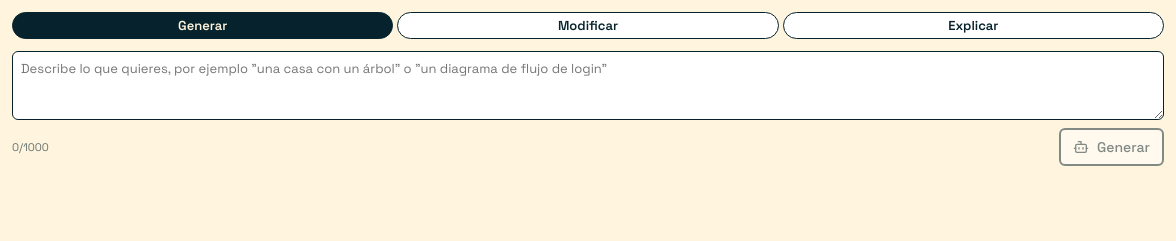
it: AssistantPanel › explain shows the text as plain text (no HTML is interpreted)
Click the tab "Explicar": (973,26) [783,12,1164,39]
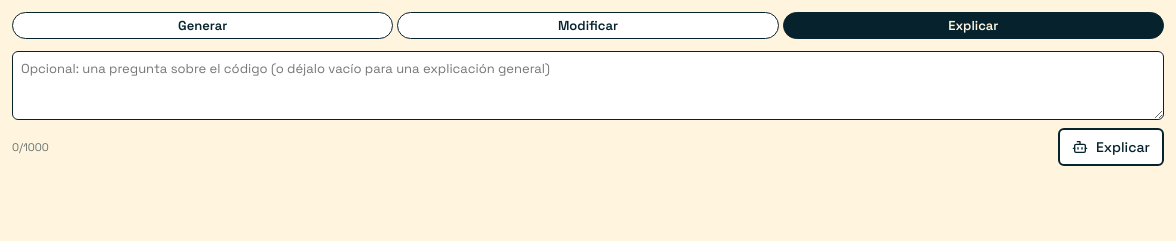
Click the button "Explicar": (1111,147) [1058,128,1164,166]
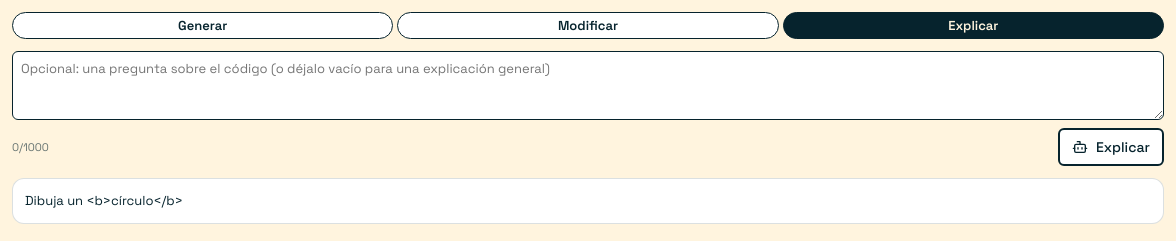
Now the text "Dibuja un <b>círculo</b>" is shown, box [12,178,1164,224]
